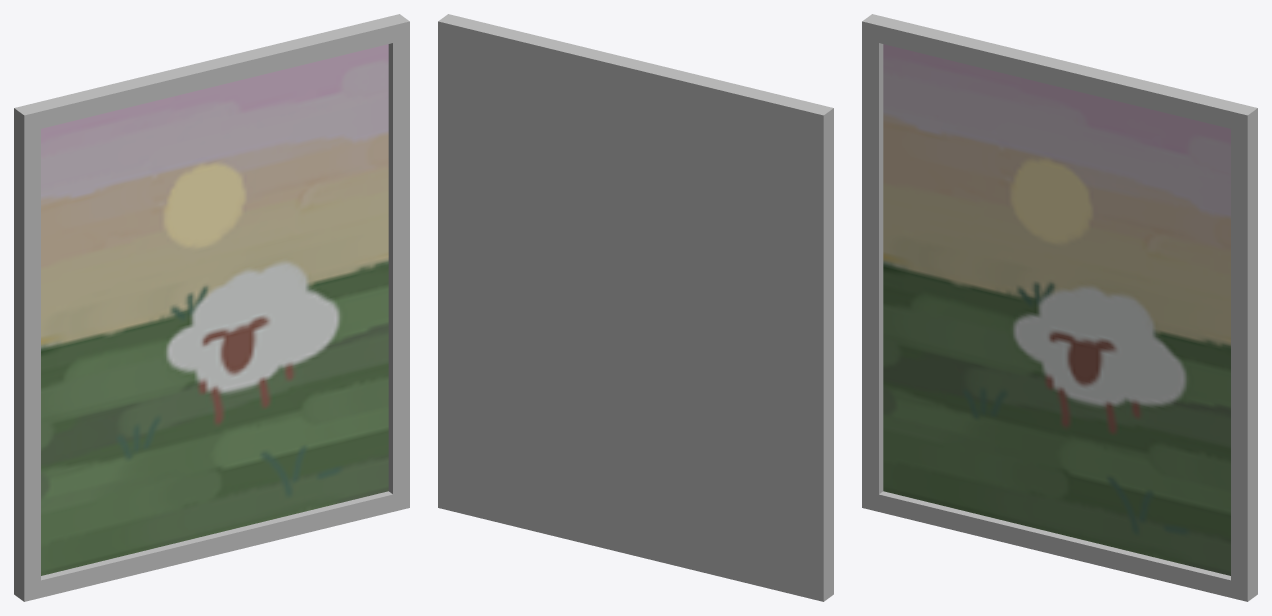
The model's file is SM_Props_Paintnig_08.fbx.
3 renders of one model, left to right at view 1: azimuth 30°, elevation 25°; view 2: azimuth 150°, elevation 25°; view 3: azimuth 330°, elevation 25°, orthographic.
Parts seen in each view (by area): view 1: SM_Props_Paintnig_08; view 2: SM_Props_Paintnig_08; view 3: SM_Props_Paintnig_08.
Part boxes in pixels (x1,y1,x2,y2): SM_Props_Paintnig_08: (14, 14, 409, 601); SM_Props_Paintnig_08: (438, 14, 833, 601); SM_Props_Paintnig_08: (862, 14, 1257, 601).
Bounding box in the file's own units: 0.5385 × 0.6493 × 0.0246.
